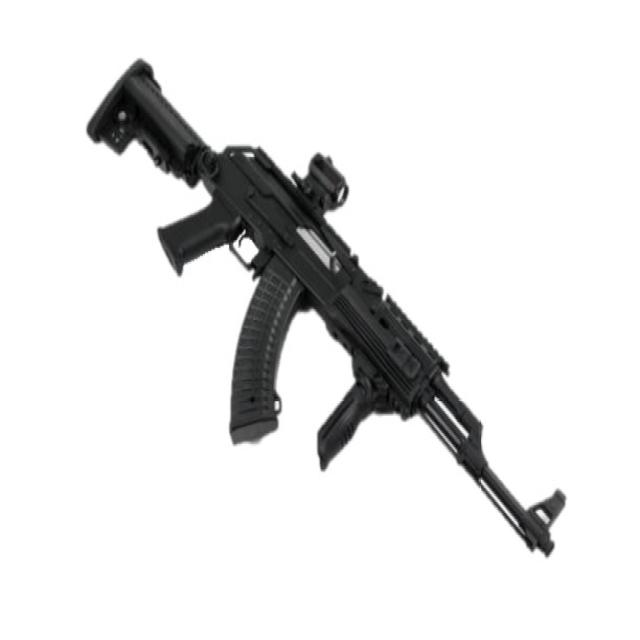rifle: (86, 44, 572, 567)
